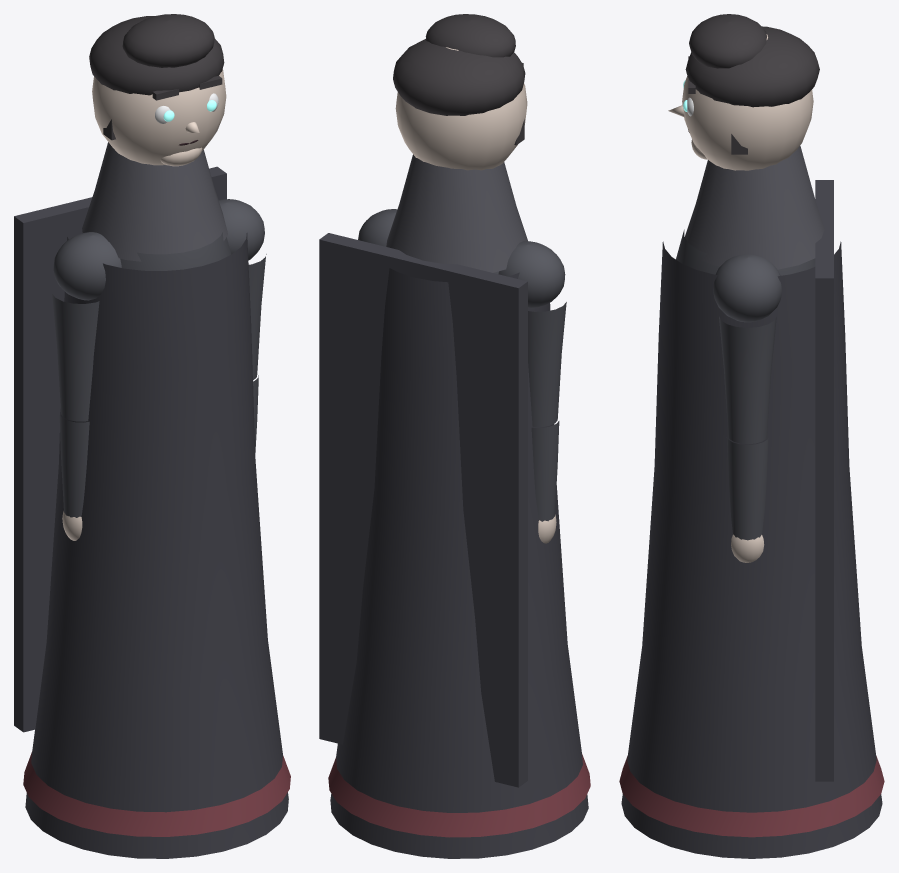
The model's file is cloakman.glb.
3 renders of one model, left to right at view 1: azimuth 30°, elevation 25°; view 2: azimuth 150°, elevation 25°; view 3: azimuth 270°, elevation 25°, orthographic.
Visible parts, largest first — view 1: abrigo, capa_trasera, cuello_v, craneo, abrigo_borde, pelo, brazoL, peinado_alto, hombroL, codoL, torso, hombroR (+1 smaller); view 2: abrigo, capa_trasera, cuello_v, pelo, abrigo_borde, craneo, brazoL, peinado_alto, hombroL, codoL, hombroR; view 3: abrigo, cuello_v, capa_trasera, craneo, abrigo_borde, pelo, brazoR, hombroR, codoR, peinado_alto, torso, manoR.
Boxes of the visible parts, x1,y1,x2,y2 form: abrigo: (25,233,288,858); capa_trasera: (14,166,226,732); cuello_v: (82,142,227,261); craneo: (92,69,226,165); abrigo_borde: (23,751,290,836); pelo: (89,16,224,95); brazoL: (52,294,99,421); peinado_alto: (122,14,214,67); hombroL: (53,232,121,300); codoL: (59,415,89,517); torso: (120,232,231,270); hombroR: (218,199,264,260); abrigo: (330,268,588,858); capa_trasera: (319,233,527,787); cuello_v: (386,154,527,272); pelo: (393,39,525,115); abrigo_borde: (328,754,590,837); craneo: (395,47,527,170); brazoL: (528,302,566,427); peinado_alto: (425,14,515,57); hombroL: (498,241,565,308); codoL: (531,421,559,521); hombroR: (358,209,397,246); abrigo: (621,241,882,858); cuello_v: (684,146,824,269); capa_trasera: (815,180,833,781); craneo: (682,34,813,170); abrigo_borde: (619,756,884,837); pelo: (685,26,819,107); brazoR: (719,316,776,444); hombroR: (713,254,782,322); codoR: (726,437,768,540); peinado_alto: (689,14,767,68); torso: (676,229,815,275); manoR: (731,534,764,562).
Size of the model in its own units: 0.64 by 2.08 by 0.64.
